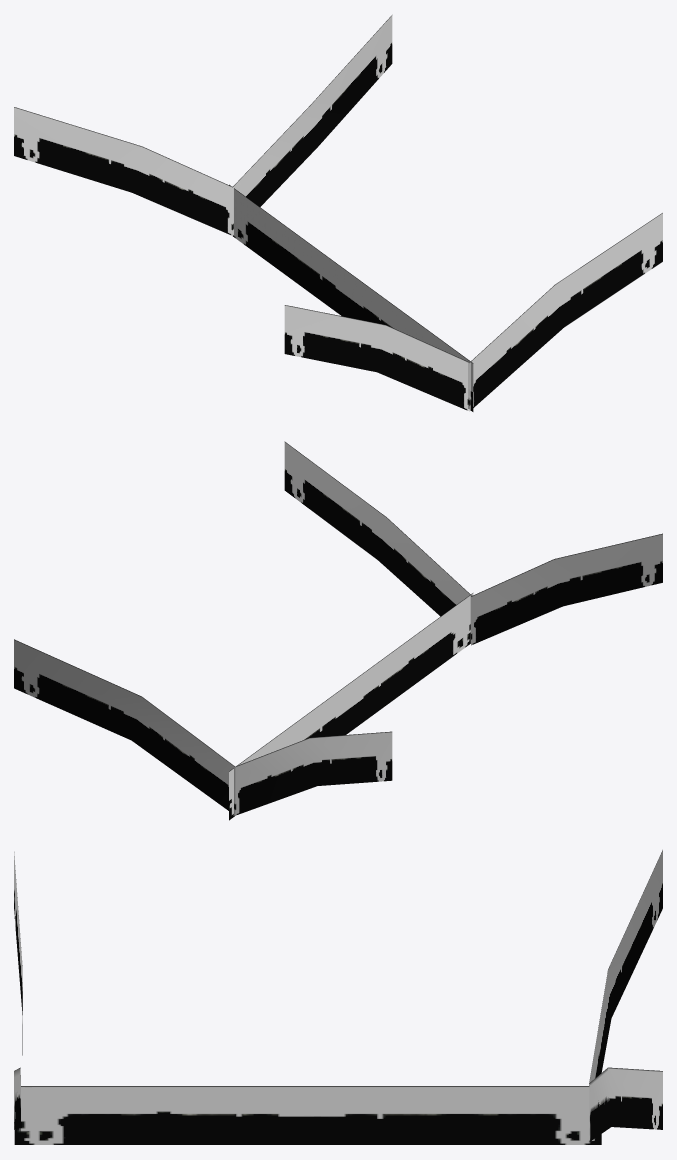
3 renders of one model, top to bottom at view 1: azimuth 30°, elevation 25°; view 2: azimuth 150°, elevation 25°; view 3: azimuth 270°, elevation 25°, orthographic. The views are drawn at different scales.
Parts seen in each view (by area): view 1: wy07; view 2: wy07; view 3: wy07.
Boxes of the visible parts, x1,y1,x2,y2 form: wy07: [14, 15, 662, 411]; wy07: [14, 441, 662, 820]; wy07: [14, 850, 662, 1144].
Size of the model in its own units: 264 by 103 by 326.
